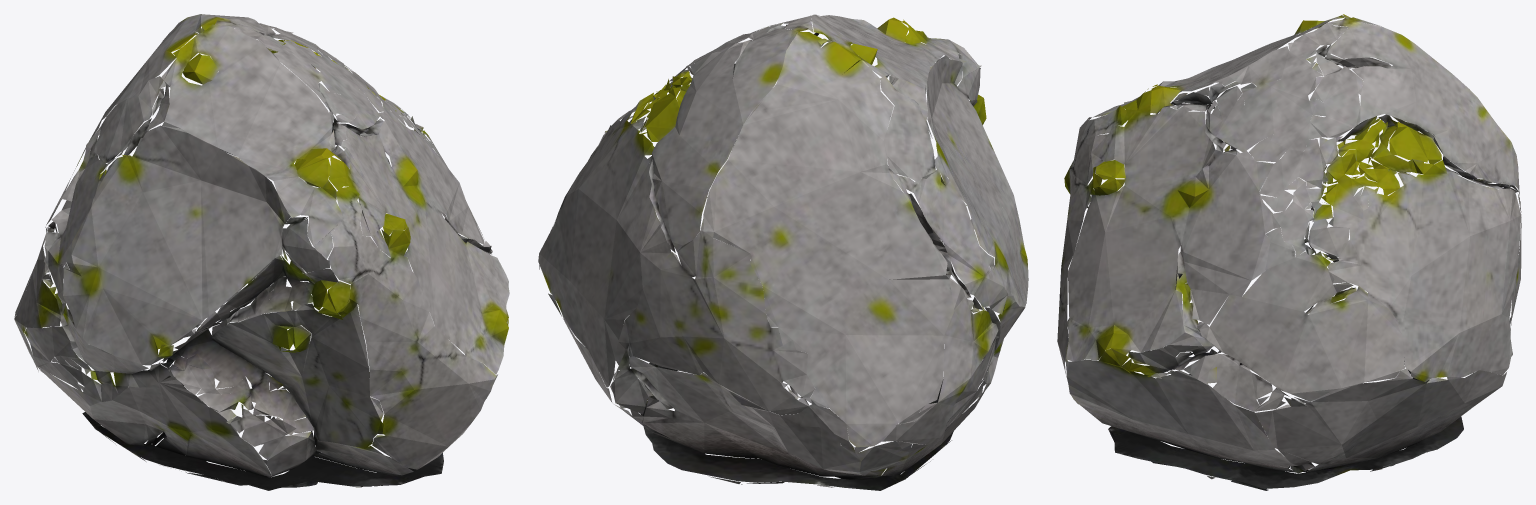
Rendered from rock.glb.
The picture shows the model from 3 angles, left to right: view 1: azimuth 30°, elevation 25°; view 2: azimuth 150°, elevation 25°; view 3: azimuth 270°, elevation 25°; orthographic projection. The views are drawn at different scales.
Parts seen in each view (by area): view 1: textured_mesh.obj; view 2: textured_mesh.obj; view 3: textured_mesh.obj.
Boxes of the visible parts, left/top/right/bottom form: textured_mesh.obj: left=14, top=14, right=509, bottom=490; textured_mesh.obj: left=538, top=14, right=1028, bottom=490; textured_mesh.obj: left=1057, top=14, right=1521, bottom=490.
Size of the model in its own units: 2 by 1.81 by 1.98.
1 material, 1 textured.
